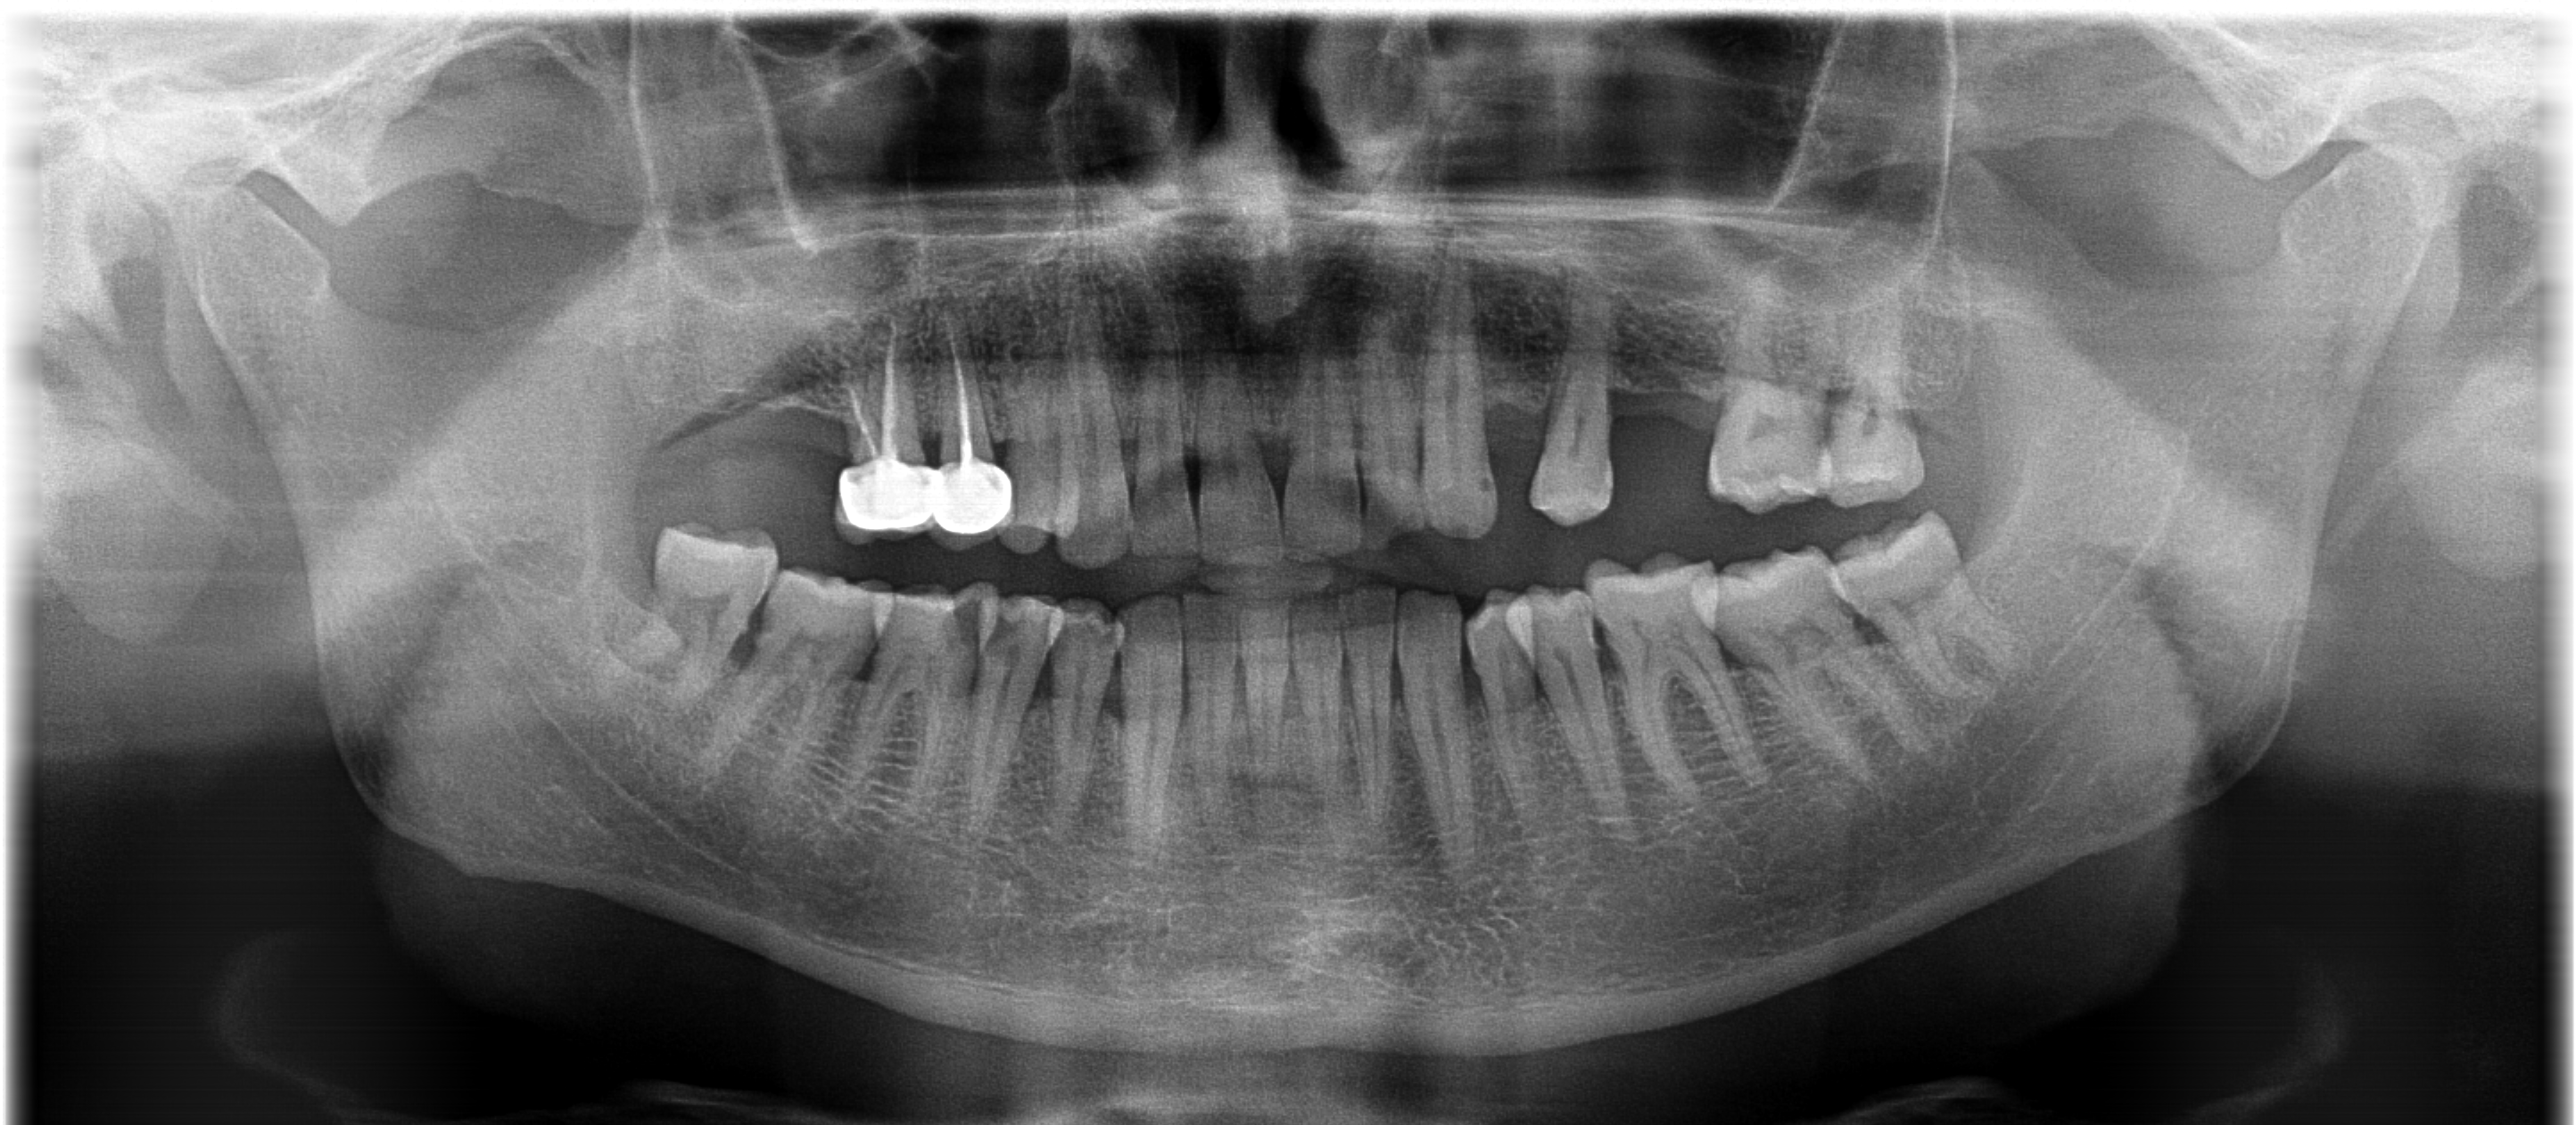cordal: (1787, 496, 2044, 716), (601, 501, 785, 709), (1796, 297, 1952, 534)
zona_dentula: (1598, 271, 1740, 512), (708, 347, 861, 558), (1456, 307, 1574, 535)
